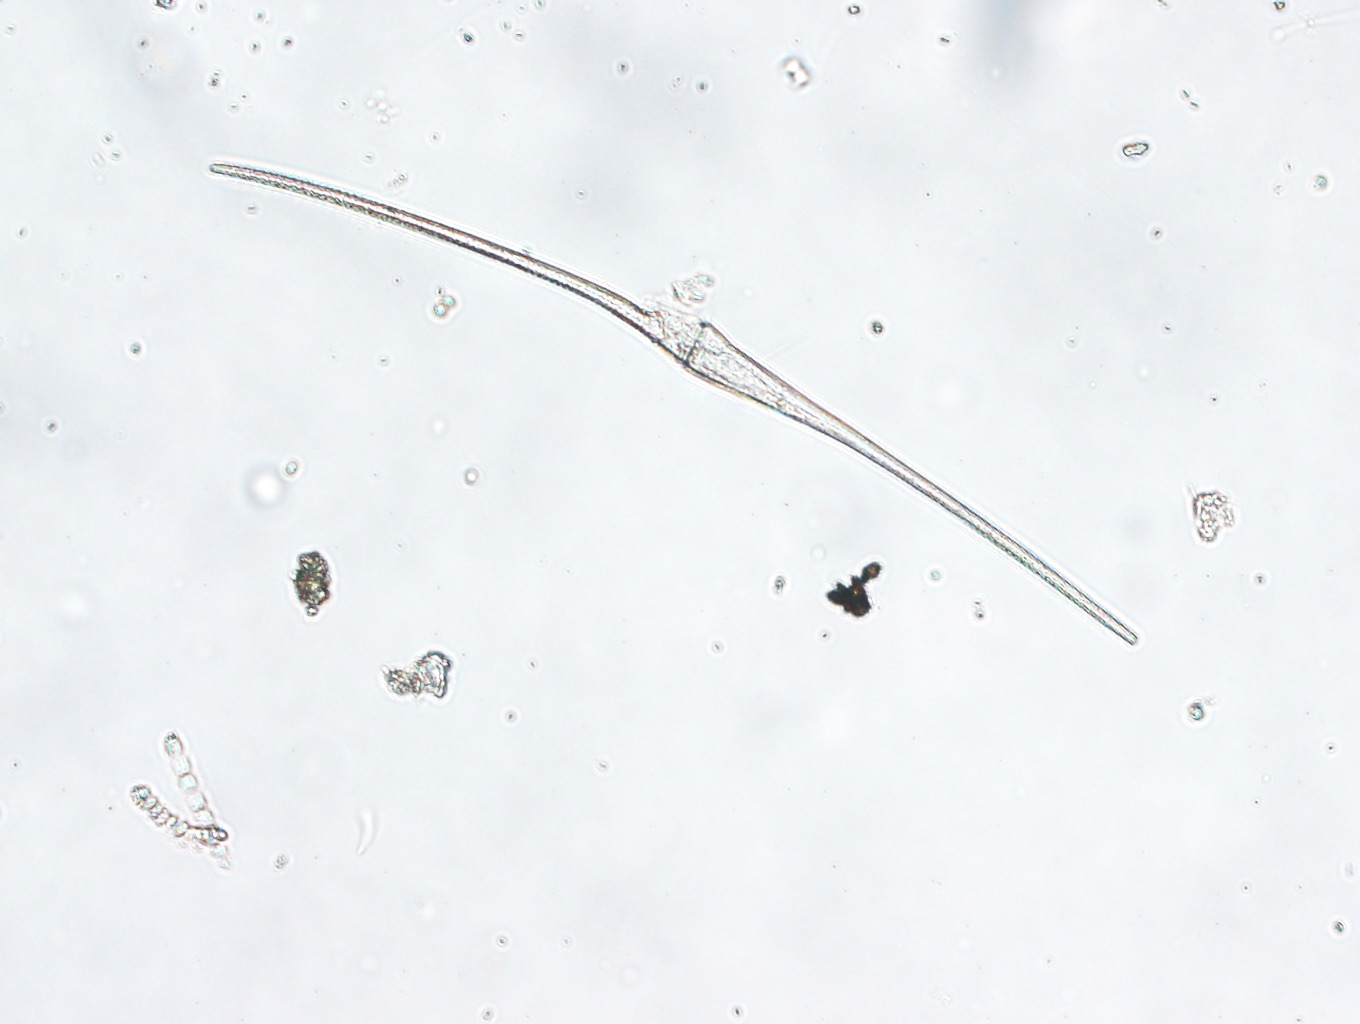ceratium fusus: (202, 153, 1143, 656)
